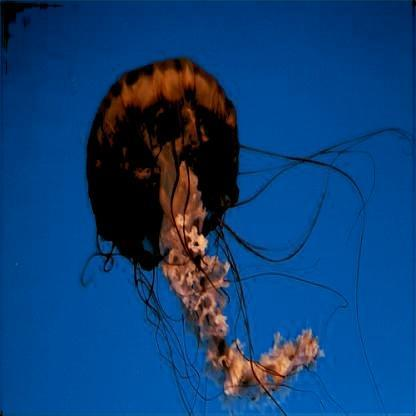Dressed: (83, 57, 324, 397)
